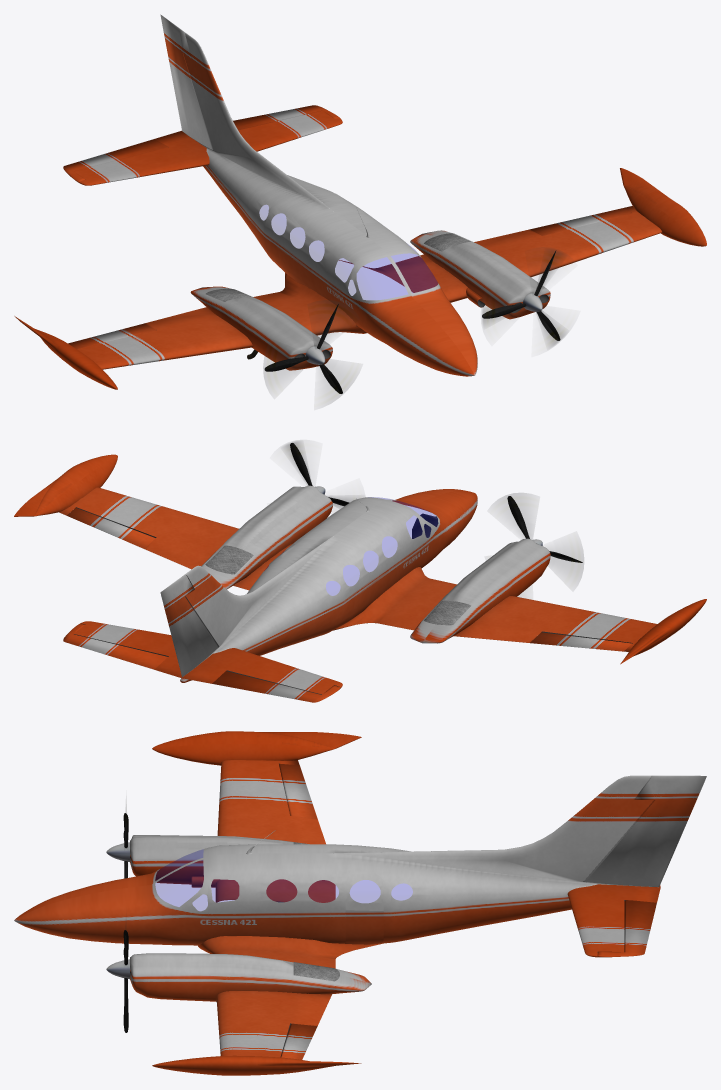
The picture shows the model from 3 angles, top to bottom: view 1: azimuth 30°, elevation 25°; view 2: azimuth 150°, elevation 25°; view 3: azimuth 270°, elevation 25°; orthographic projection. The views are drawn at different scales.
Parts seen in each view (by area): view 1: fuselage; view 2: fuselage; view 3: fuselage.
Boxes of the visible parts, x1=… form: fuselage: x1=14, y1=14, x2=706, y2=404; fuselage: x1=14, y1=440, x2=706, y2=702; fuselage: x1=14, y1=731, x2=706, y2=1075.
Bounding box in the file's own units: 12.47 × 3.42 × 11.02.
3 materials, 2 textured.
